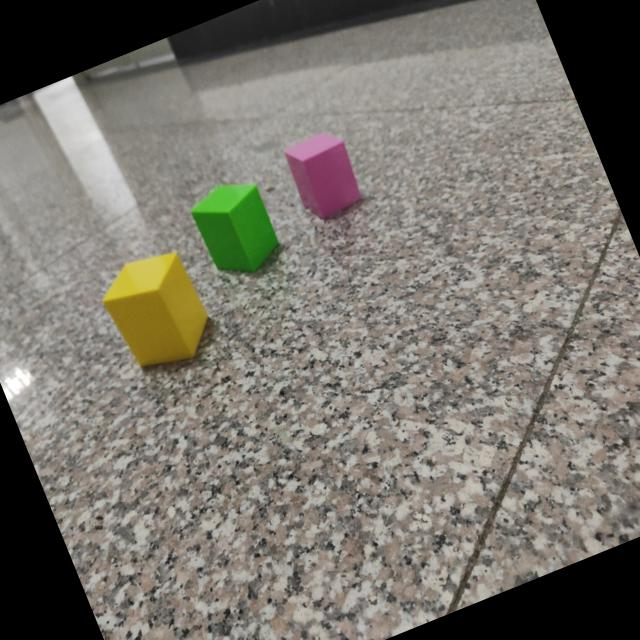green: (190, 183, 281, 276)
pink: (285, 134, 365, 222)
yellow: (101, 251, 209, 370)
